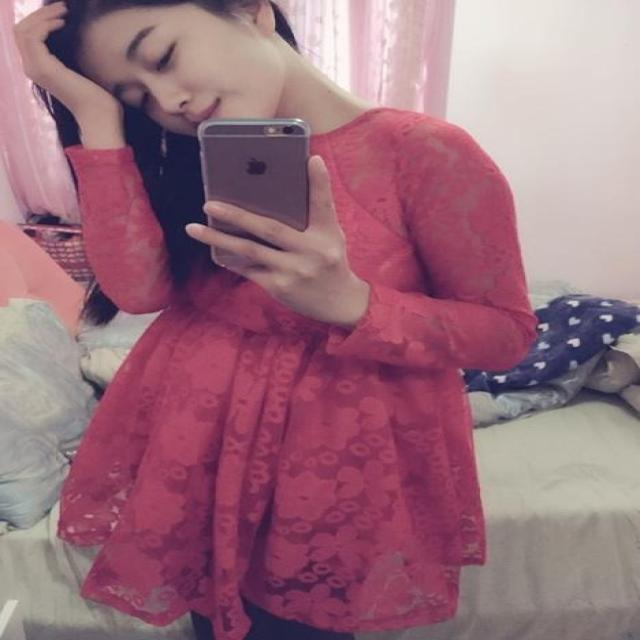long sleeve dress: (81, 110, 536, 623)
